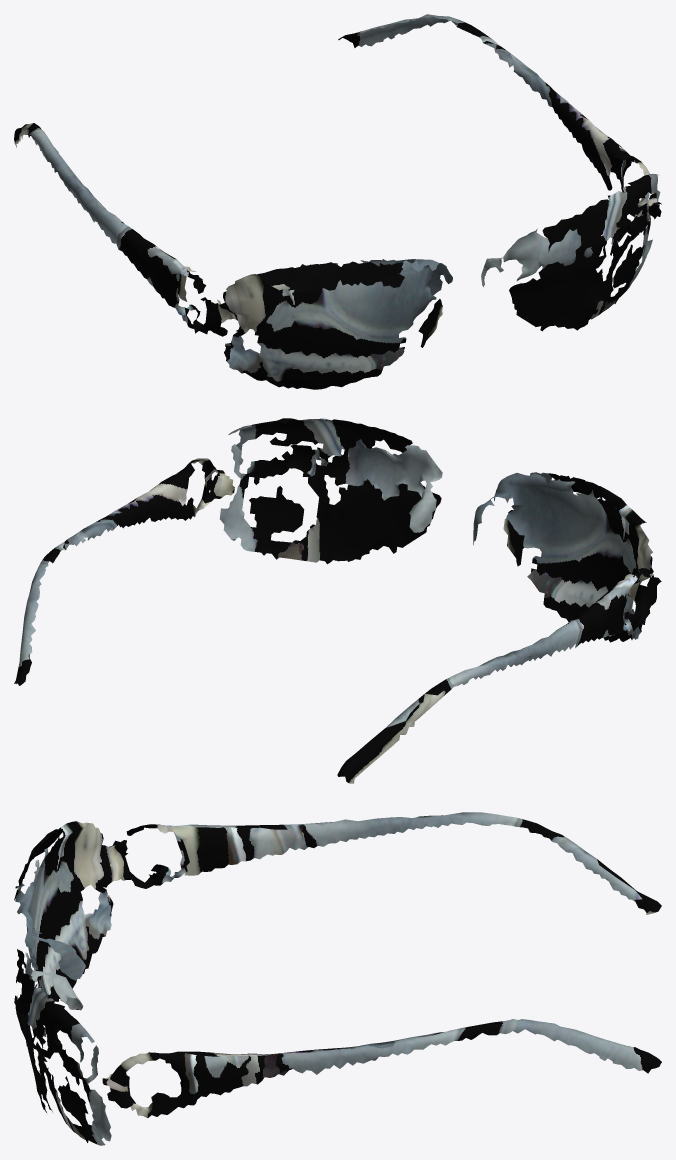
Rendered from scan_align.obj.
The picture shows the model from 3 angles, top to bottom: view 1: azimuth 30°, elevation 25°; view 2: azimuth 150°, elevation 25°; view 3: azimuth 270°, elevation 25°; orthographic projection. The views are drawn at different scales.
Size of the model in its own units: 0.1402 by 0.0398 by 0.1585.
